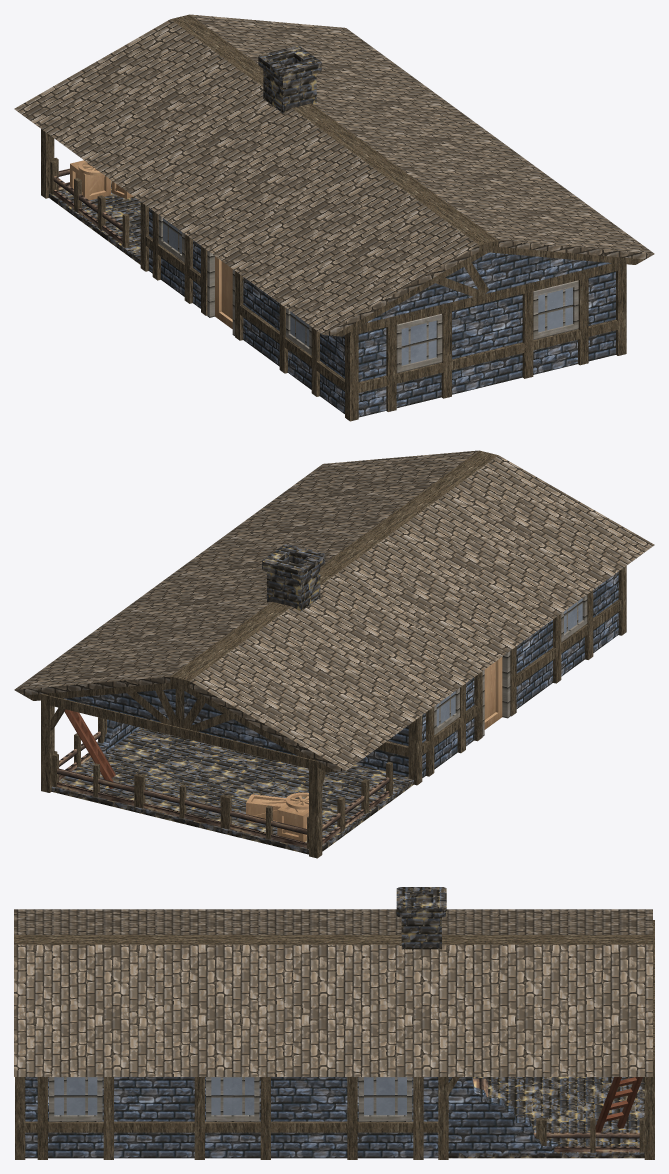
Rendered from House with Workshop.fbx.
The picture shows the model from 3 angles, top to bottom: view 1: azimuth 30°, elevation 25°; view 2: azimuth 150°, elevation 25°; view 3: azimuth 270°, elevation 25°; orthographic projection. The views are drawn at different scales.
Visible parts, largest first — view 1: mergedBlocks; view 2: mergedBlocks; view 3: mergedBlocks.
Part boxes in pixels (x1,y1,x2,y2): mergedBlocks: [14, 14, 654, 421]; mergedBlocks: [14, 450, 654, 858]; mergedBlocks: [14, 887, 654, 1159].
Size of the model in its own units: 38.45 by 20.47 by 62.1.
